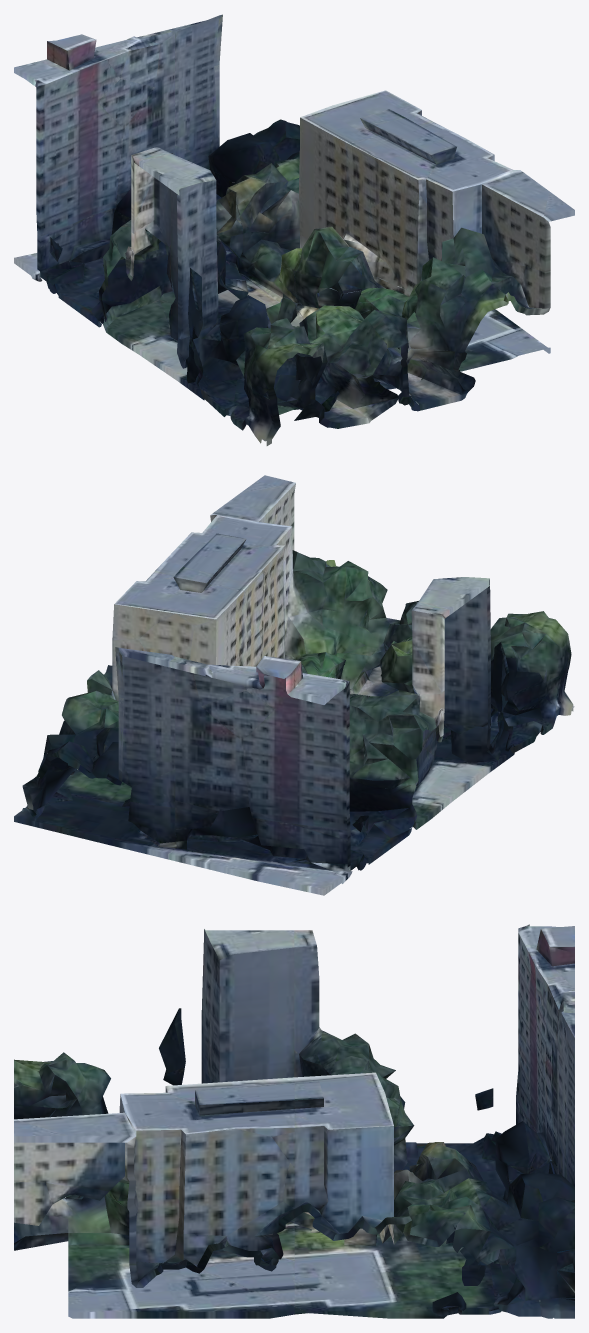
3 views of the same model, one above another, from view 1: azimuth 30°, elevation 25°; view 2: azimuth 150°, elevation 25°; view 3: azimuth 270°, elevation 25° (orthographic). The views are drawn at different scales.
Parts seen in each view (by area): view 1: 3043627270437061541_0; view 2: 3043627270437061541_0; view 3: 3043627270437061541_0.
Boxes of the visible parts, x1,y1,x2,y2 form: 3043627270437061541_0: (14,14,574,445); 3043627270437061541_0: (14,475,574,895); 3043627270437061541_0: (14,924,574,1318).
Size of the model in its own units: 54.65 by 36.37 by 76.53.
Materials: 1 (1 with a texture image).
